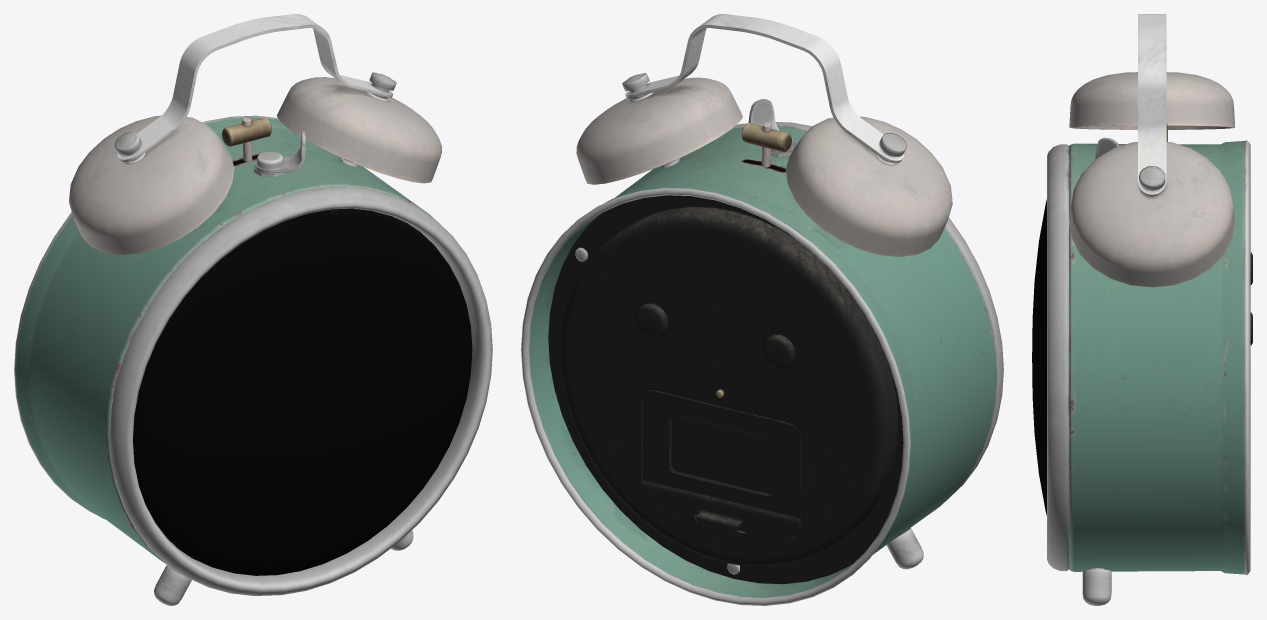
The model's file is alarm_clock_01.glb.
The picture shows the model from 3 angles, left to right: view 1: azimuth 30°, elevation 25°; view 2: azimuth 150°, elevation 25°; view 3: azimuth 270°, elevation 25°; orthographic projection. The views are drawn at different scales.
Parts seen in each view (by area): view 1: alarm_clock_01; view 2: alarm_clock_01; view 3: alarm_clock_01.
Part boxes in pixels (left/top/right/bottom): alarm_clock_01: left=14, top=14, right=492, bottom=605; alarm_clock_01: left=521, top=14, right=1003, bottom=605; alarm_clock_01: left=1032, top=14, right=1252, bottom=605.
Size of the model in its own units: 0.1317 by 0.1742 by 0.0667.
2 materials, 2 textured.
